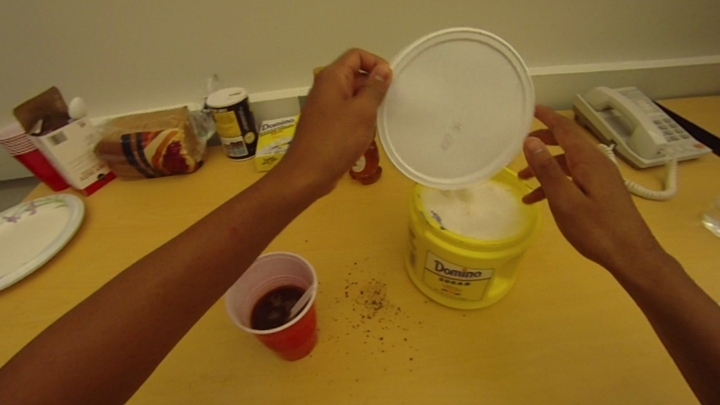hand: (521, 98, 642, 257), (291, 43, 390, 186)
